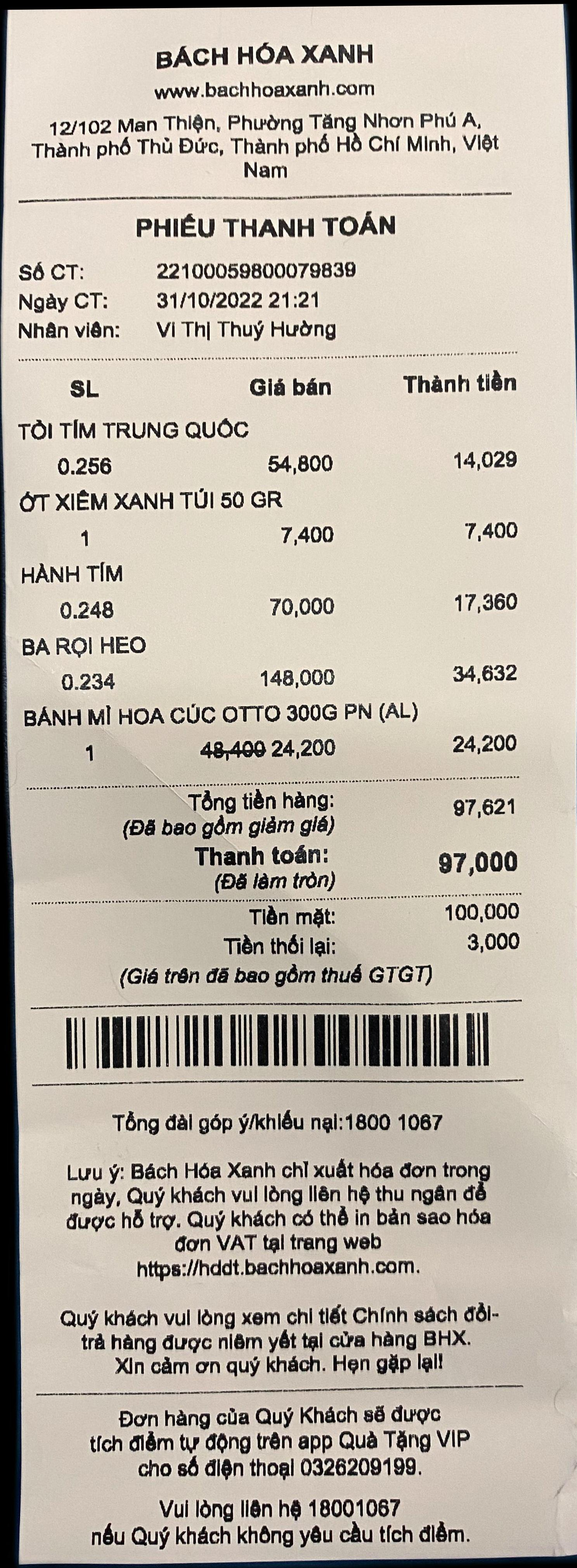Date: (147, 286, 266, 313)
Store_Name: (132, 34, 396, 85)
Total_Amount: (14, 779, 537, 827)
